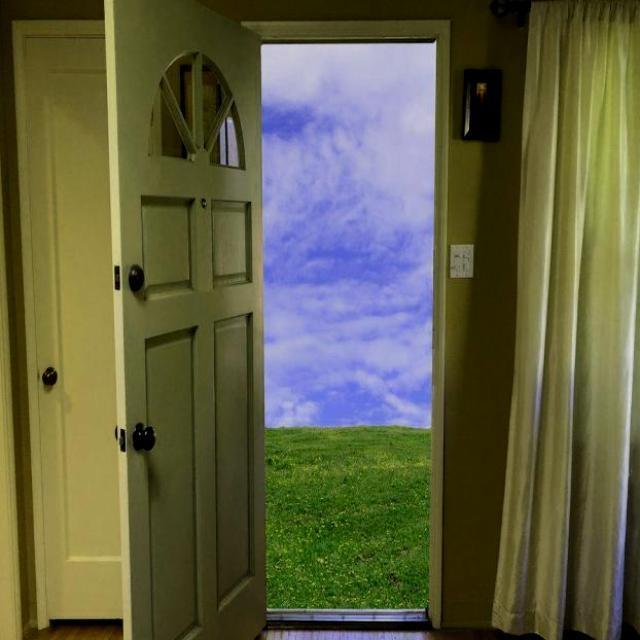door: (101, 0, 273, 640)
